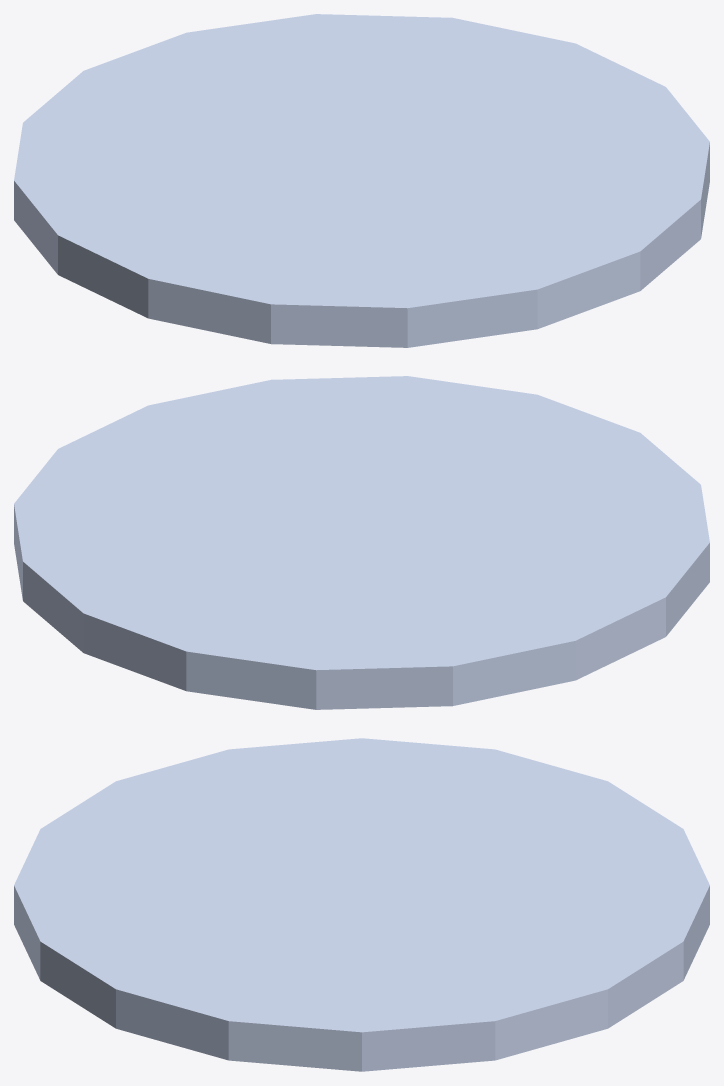
Rendered from celestial_moon.obj.
3 views of the same model, one above another, from view 1: azimuth 30°, elevation 25°; view 2: azimuth 150°, elevation 25°; view 3: azimuth 270°, elevation 25° (orthographic).
Visible parts, largest first — view 1: CelestialMoon; view 2: CelestialMoon; view 3: CelestialMoon.
Boxes of the visible parts, <box> form: CelestialMoon: <box>14,14,709,347</box>; CelestialMoon: <box>14,376,709,709</box>; CelestialMoon: <box>14,738,709,1071</box>.
Bounding box in the file's own units: 8 × 0.5 × 8.
